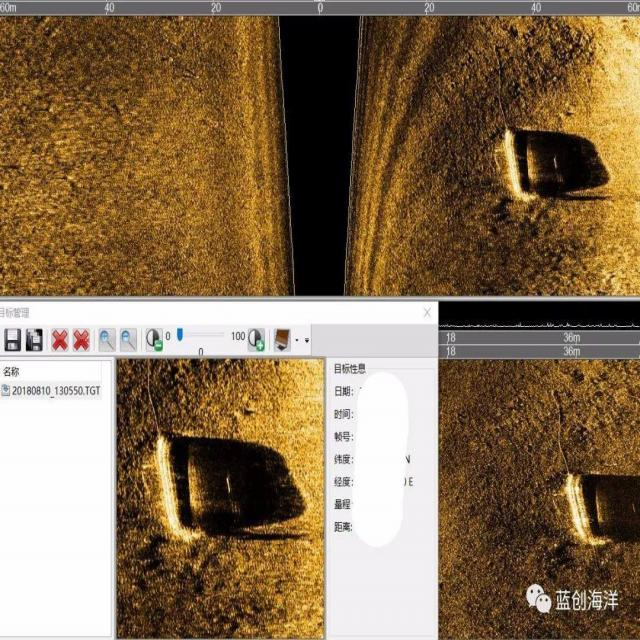ship: (151, 435, 205, 542), (562, 469, 608, 548), (497, 120, 539, 204)
